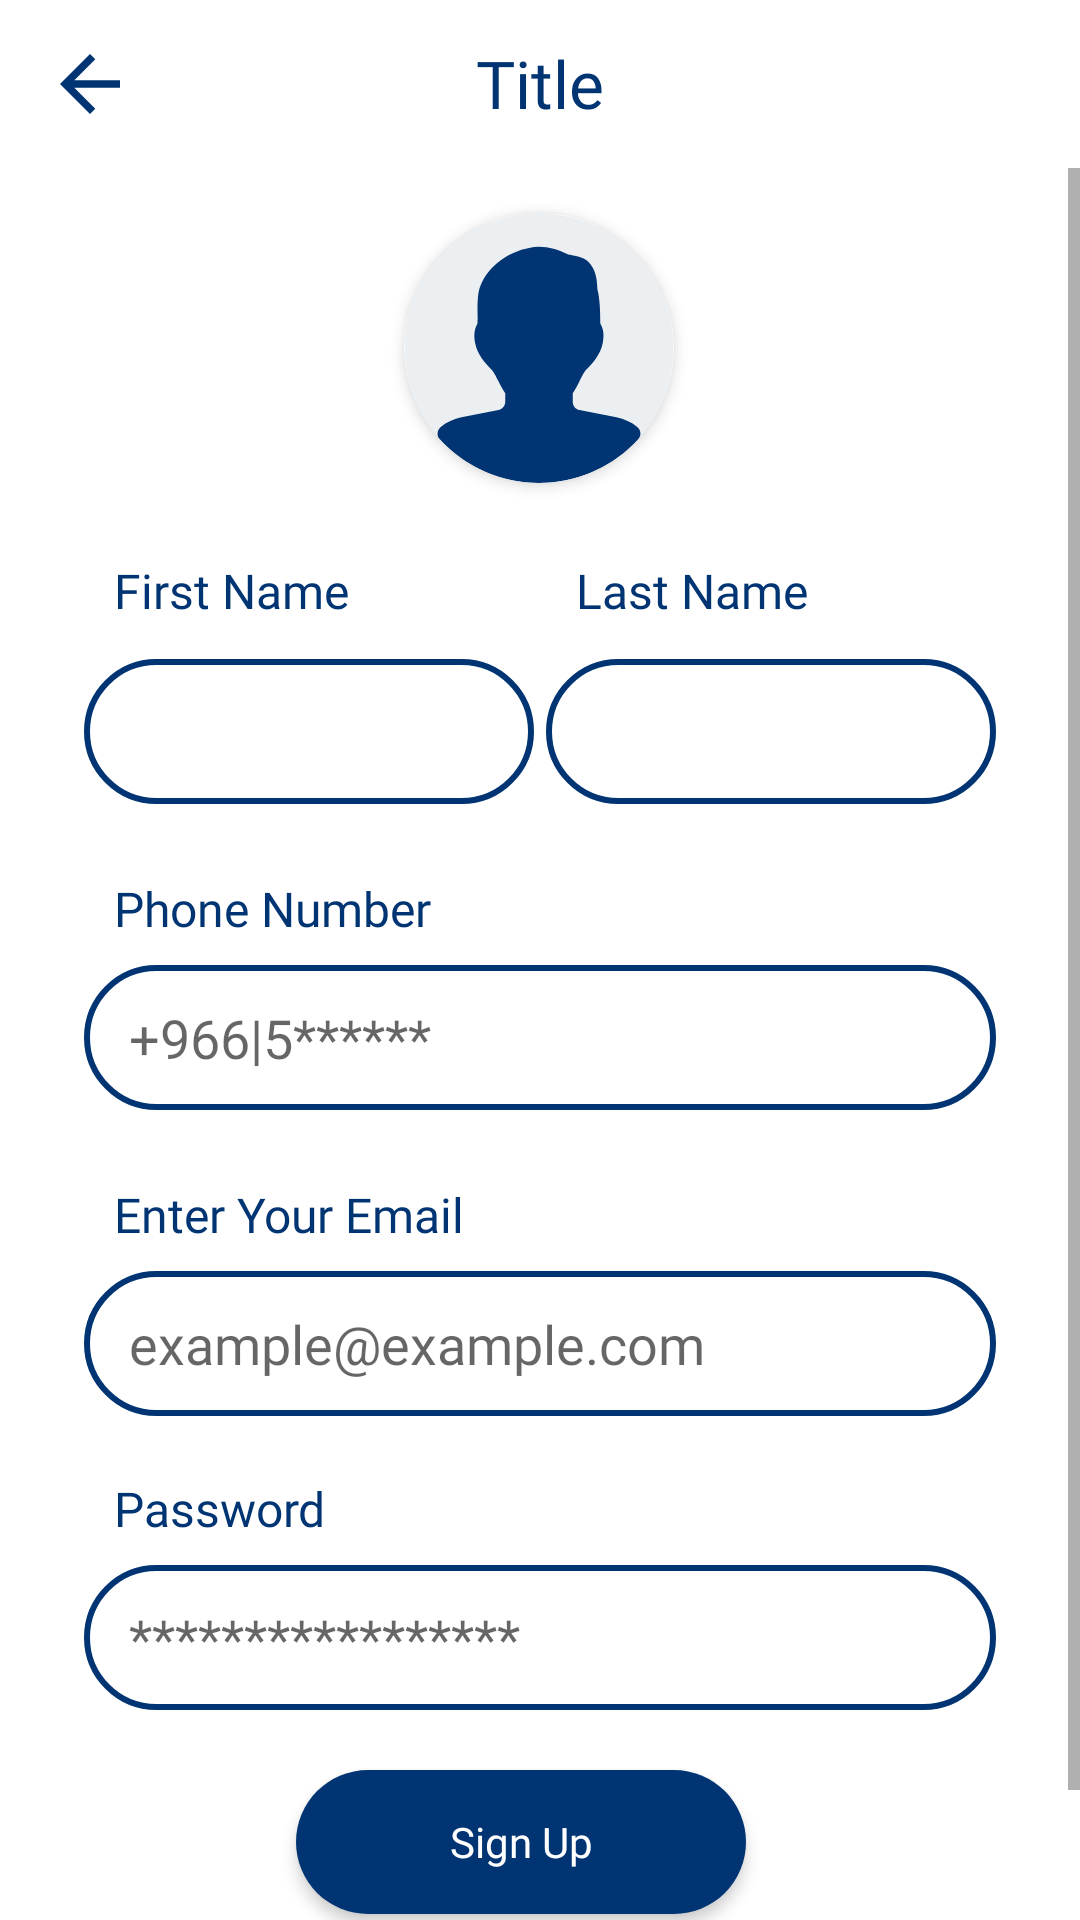

Where icons sit on this 1080*1920 app screen, as detection(x1, y1, x2, y2):
arrow back: detection(60, 54, 120, 114)
